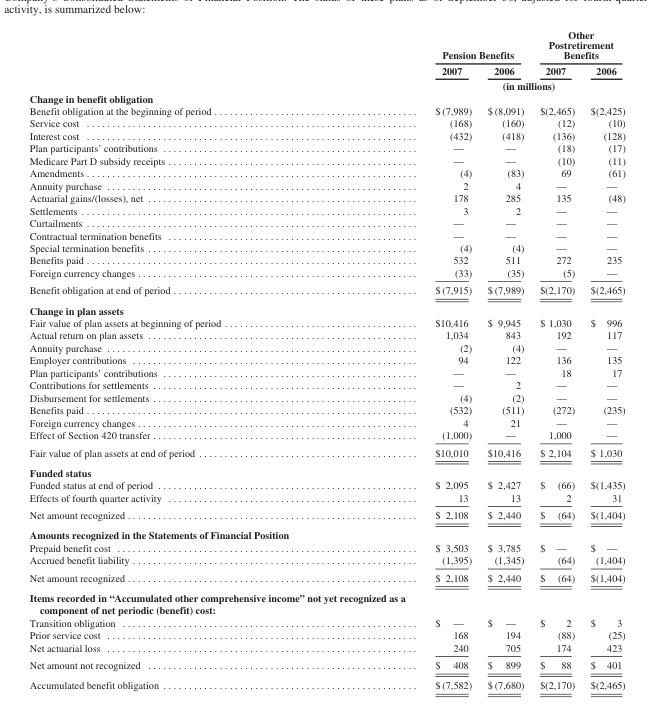table: (28, 28, 624, 690)
table column: (28, 28, 327, 690), (327, 28, 479, 690), (479, 28, 531, 690), (531, 28, 582, 690), (582, 28, 624, 690)
table column header: (28, 28, 624, 91)
table projected row header: (28, 587, 624, 616), (28, 299, 624, 316), (28, 524, 624, 541), (28, 462, 624, 478), (28, 91, 624, 104)
table row: (28, 28, 624, 62), (28, 587, 624, 616), (28, 443, 624, 462), (28, 505, 624, 524), (28, 568, 624, 587), (28, 281, 624, 299), (28, 656, 624, 674), (28, 299, 624, 316), (28, 524, 624, 541), (28, 462, 624, 478), (28, 674, 624, 690), (28, 62, 624, 77), (28, 266, 624, 281), (28, 428, 624, 443), (28, 490, 624, 505), (28, 553, 624, 568), (28, 641, 624, 656), (28, 77, 624, 91), (28, 91, 624, 104), (28, 116, 624, 129), (28, 141, 624, 154), (28, 166, 624, 179), (28, 203, 624, 216), (28, 228, 624, 241), (28, 253, 624, 266), (28, 328, 624, 341), (28, 353, 624, 366), (28, 378, 624, 391), (28, 415, 624, 428), (28, 628, 624, 641), (28, 104, 624, 116), (28, 129, 624, 141), (28, 154, 624, 166), (28, 179, 624, 191), (28, 191, 624, 203), (28, 216, 624, 228), (28, 241, 624, 253), (28, 316, 624, 328), (28, 341, 624, 353), (28, 366, 624, 378), (28, 391, 624, 403), (28, 403, 624, 415), (28, 478, 624, 490), (28, 541, 624, 553), (28, 616, 624, 628)
table spanning cell: (327, 28, 531, 62), (327, 77, 624, 91), (531, 28, 624, 62)
